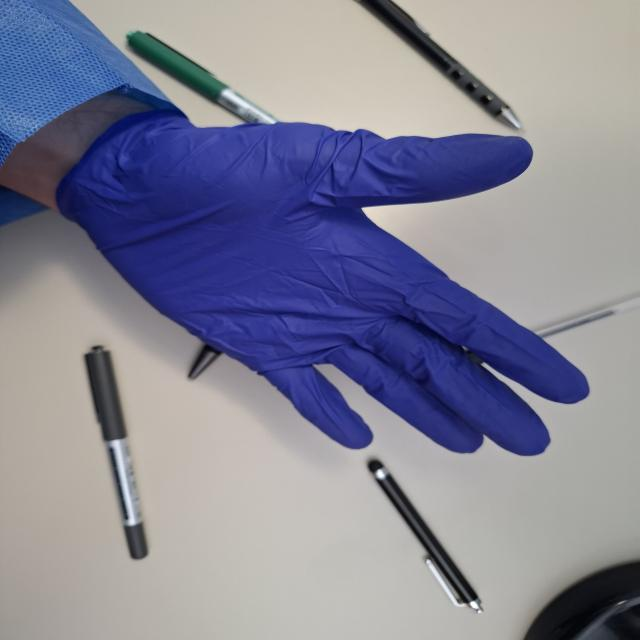glove_on: (49, 103, 593, 460)
